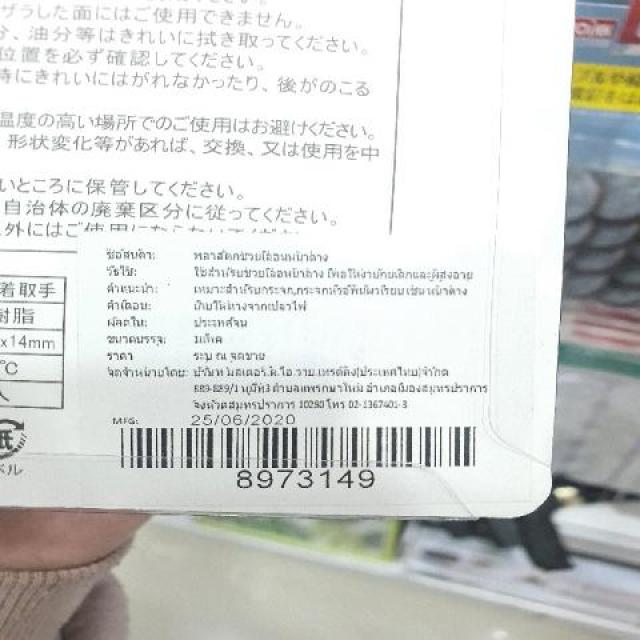Barcode: (100, 422, 492, 493)
